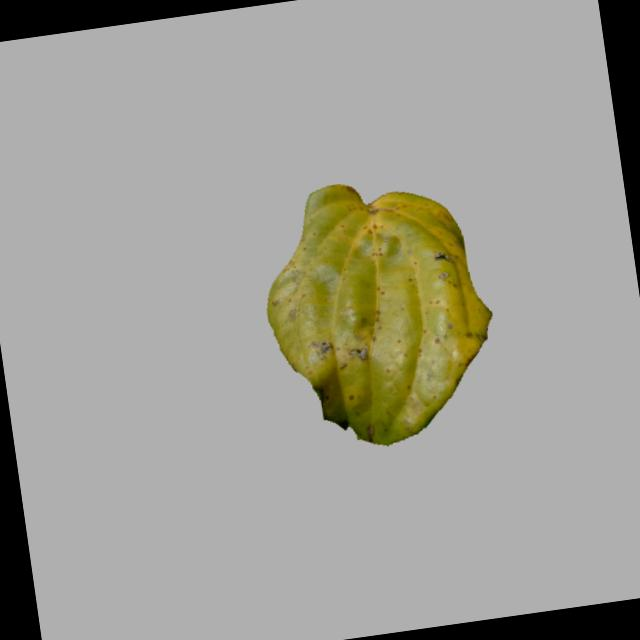yellow-mottle-virus: (248, 156, 518, 458)
